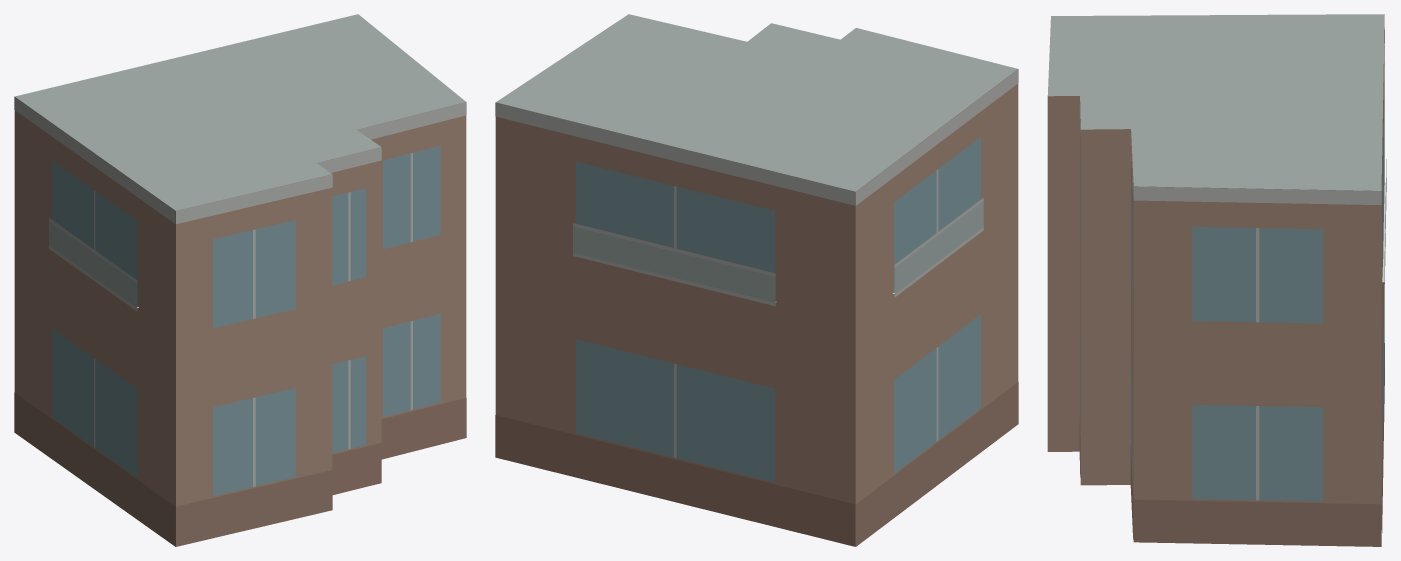
Rendered from survey-upis-32896718.glb.
3 renders of one model, left to right at view 1: azimuth 30°, elevation 25°; view 2: azimuth 150°, elevation 25°; view 3: azimuth 270°, elevation 25°, orthographic. The views are drawn at different scales.
Visible parts, largest first — view 1: survey-upis-32896718.tmp; view 2: survey-upis-32896718.tmp; view 3: survey-upis-32896718.tmp.
Part boxes in pixels (bbox=[...]): survey-upis-32896718.tmp: bbox=[14, 14, 466, 546]; survey-upis-32896718.tmp: bbox=[495, 14, 1018, 546]; survey-upis-32896718.tmp: bbox=[1047, 14, 1386, 546].
Bounding box in the file's own units: 6.53 × 6.1 × 5.27.
